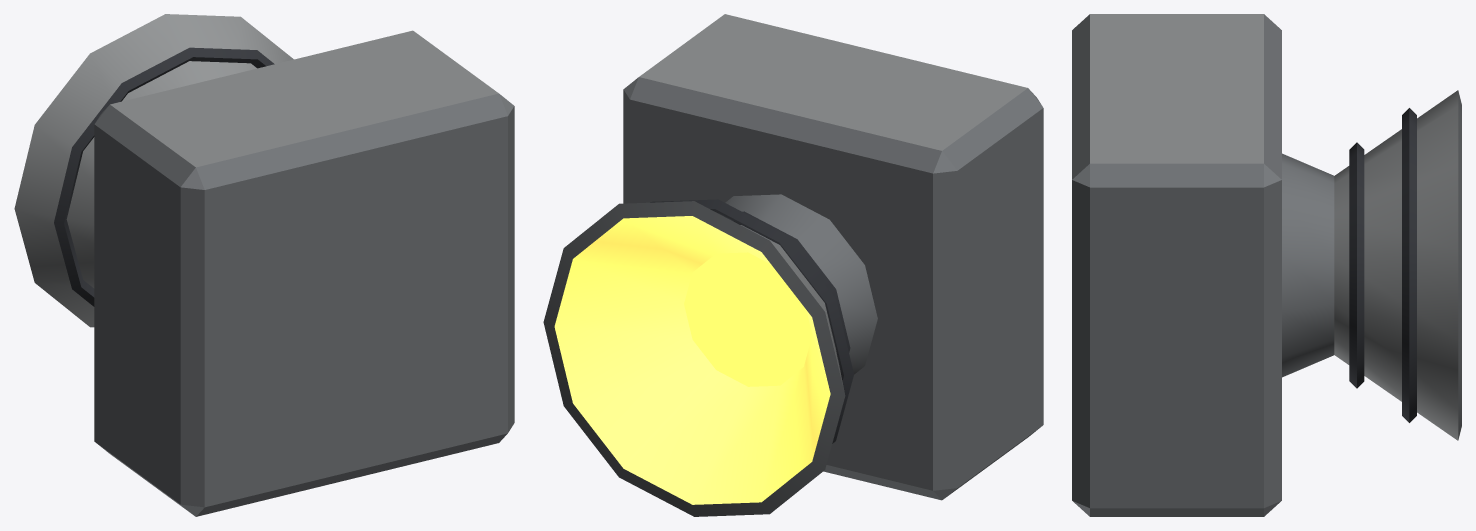
File: R4X_Booster_LOD1.glb
3 views of the same model, side by side, from view 1: azimuth 30°, elevation 25°; view 2: azimuth 150°, elevation 25°; view 3: azimuth 270°, elevation 25° (orthographic).
Visible parts, largest first — view 1: R4X_Booster_LOD1; view 2: R4X_Booster_LOD1; view 3: R4X_Booster_LOD1.
Boxes of the visible parts, <box> form: R4X_Booster_LOD1: <box>14,14,514,516</box>; R4X_Booster_LOD1: <box>543,14,1043,516</box>; R4X_Booster_LOD1: <box>1072,14,1461,516</box>.
Bounding box in the file's own units: 0.52 × 0.52 × 0.52.
